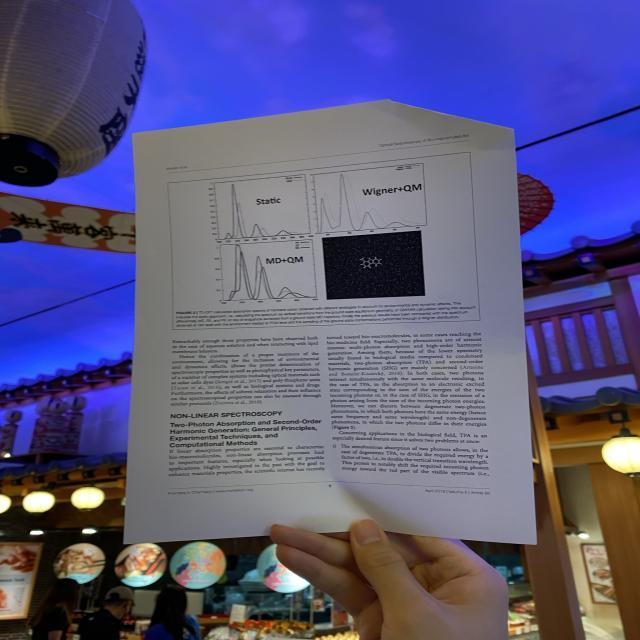document: (125, 100, 535, 544)
